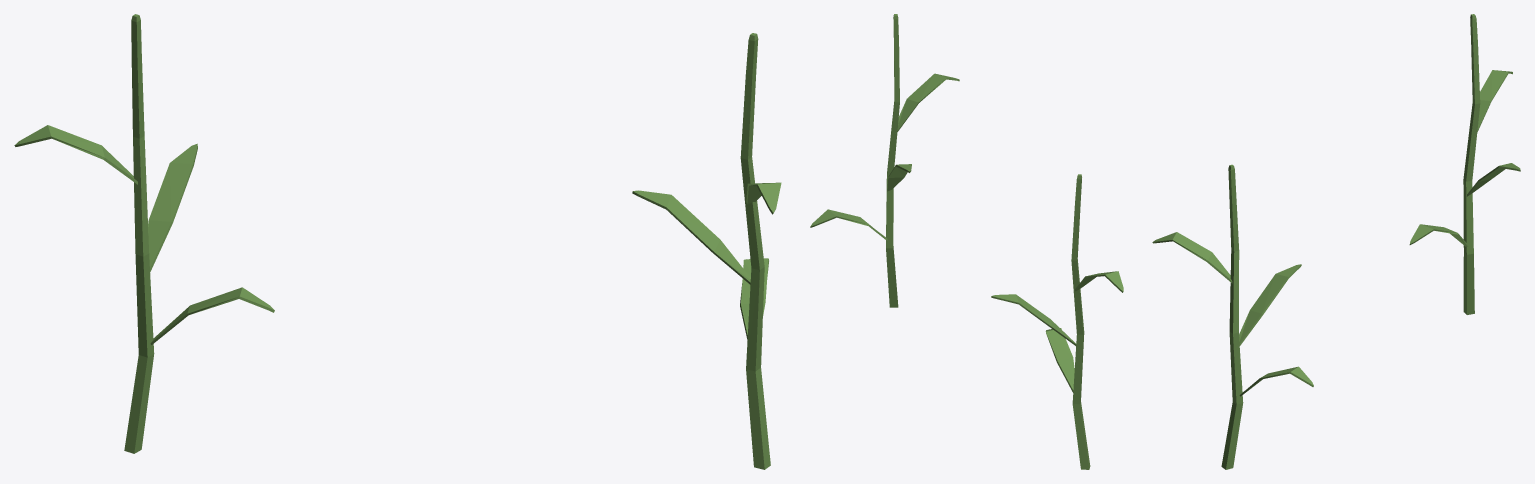
Rendered from crop_corn.s2.glb.
3 renders of one model, left to right at view 1: azimuth 30°, elevation 25°; view 2: azimuth 150°, elevation 25°; view 3: azimuth 270°, elevation 25°, orthographic. The views are drawn at different scales.
Bounding box in the file's own units: 0.4903 × 0.3349 × 0.3725.
